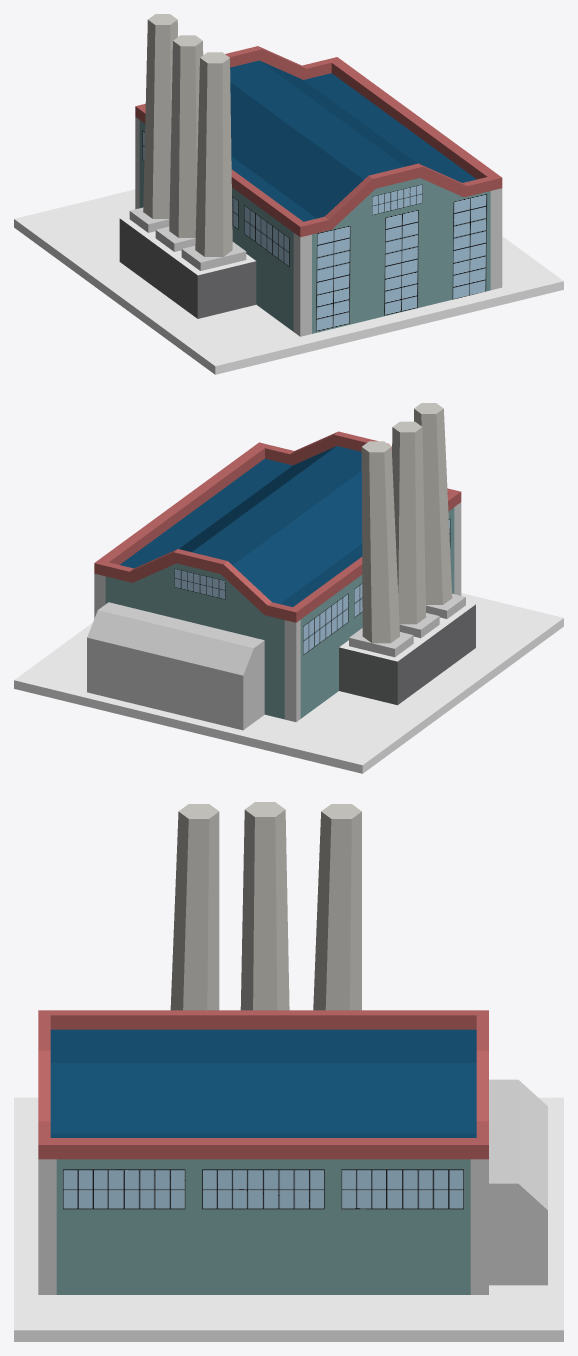
Rendered from factory_2.dae.
The picture shows the model from 3 angles, top to bottom: view 1: azimuth 30°, elevation 25°; view 2: azimuth 150°, elevation 25°; view 3: azimuth 270°, elevation 25°; orthographic projection. The views are drawn at different scales.
Parts seen in each view (by area): view 1: group_0 (×19); view 2: group_0 (×18); view 3: group_0 (×11).
Part boxes in pixels (x1,y1,x2,y2): group_0 (×19): (14,14,563,374); group_0 (×18): (14,403,563,773); group_0 (×11): (14,802,563,1341).
Bounding box in the file's own units: 134 × 134 × 92.1.
Materials: 9 (8 with a texture image).
